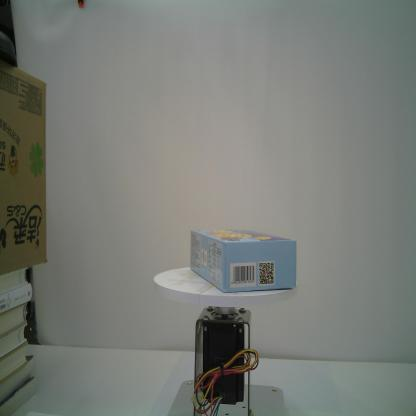Dessert: (189, 229, 298, 292)
